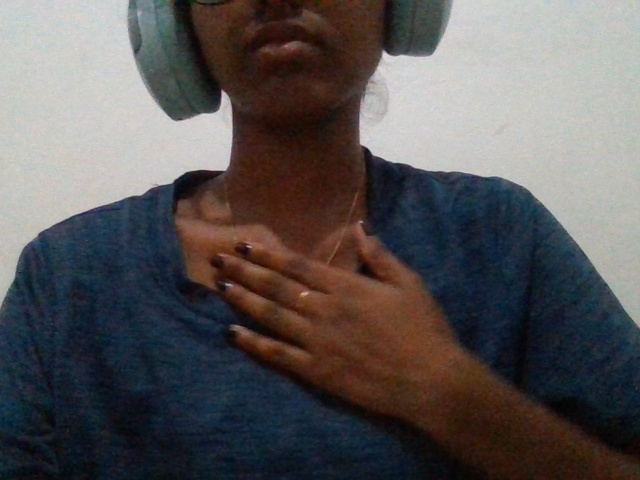Please: (199, 214, 478, 439)
